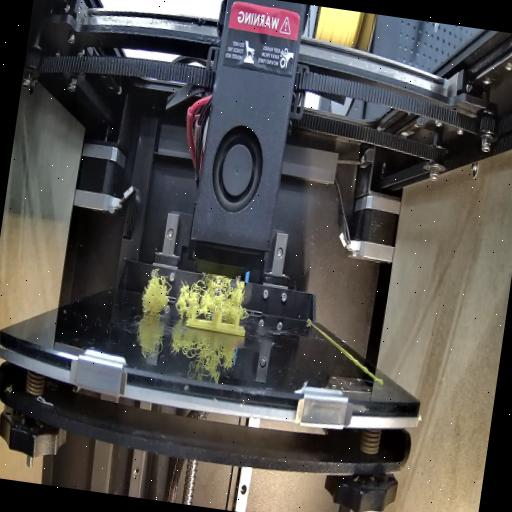spaghetti: (173, 266, 250, 324), (136, 268, 170, 321)
